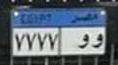7: (48, 33, 59, 52), (36, 31, 46, 51), (26, 31, 36, 51), (15, 31, 25, 51)
waw: (76, 33, 90, 50), (91, 33, 103, 50)
